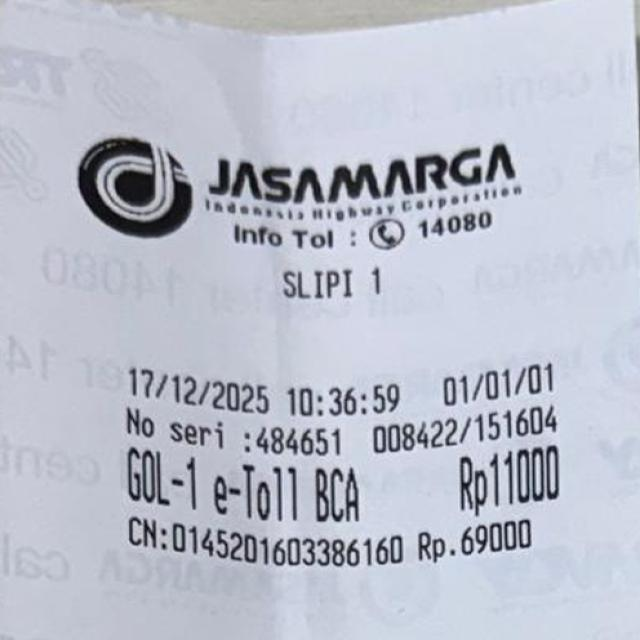date: (113, 366, 274, 414)
store: (199, 151, 545, 203)
total: (304, 444, 588, 512)
